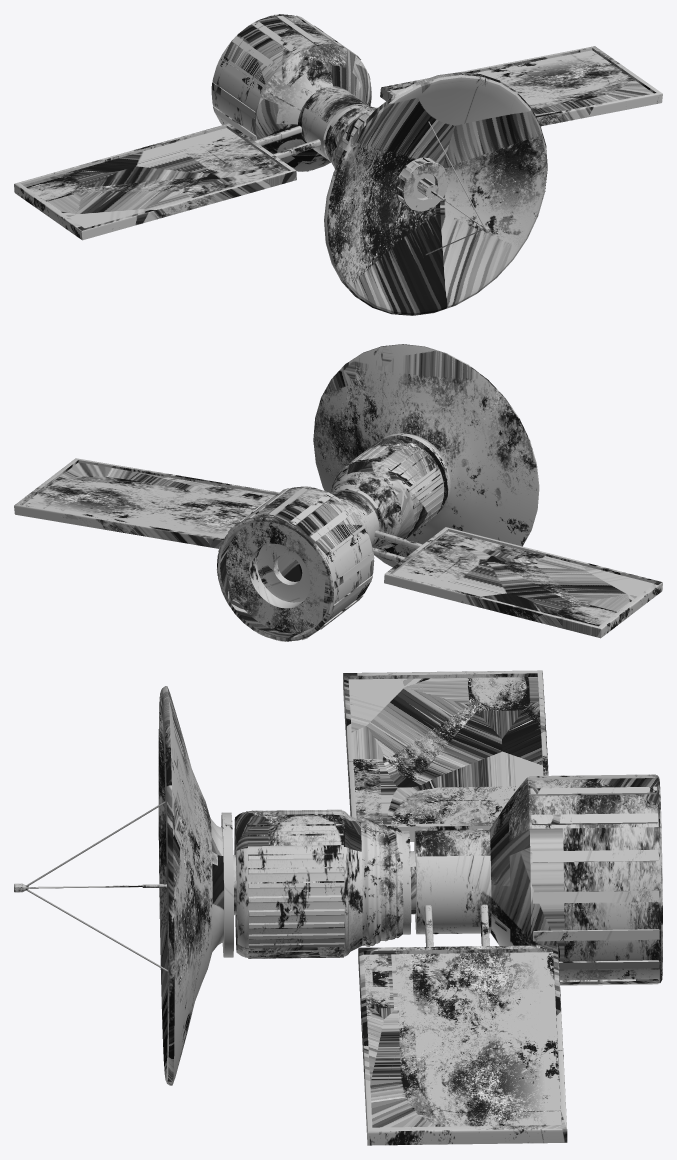
Rendered from satelitbun.obj.
3 views of the same model, one above another, from view 1: azimuth 30°, elevation 25°; view 2: azimuth 150°, elevation 25°; view 3: azimuth 270°, elevation 25° (orthographic). The views are drawn at different scales.
Visible parts, largest first — view 1: Satélite_Cylinder.004, Placas_Cylinder.001, Couro_Cylinder; view 2: Satélite_Cylinder.004, Placas_Cylinder.001, Couro_Cylinder; view 3: Satélite_Cylinder.004, Placas_Cylinder.001, Couro_Cylinder, Pinos_Cylinder.002.
Part boxes in pixels (left/top/right/bottom): Satélite_Cylinder.004: left=211, top=14, right=547, bottom=315; Placas_Cylinder.001: left=14, top=46, right=662, bottom=240; Couro_Cylinder: left=327, top=106, right=377, bottom=168; Satélite_Cylinder.004: left=216, top=344, right=539, bottom=641; Placas_Cylinder.001: left=14, top=458, right=662, bottom=638; Couro_Cylinder: left=330, top=471, right=402, bottom=548; Satélite_Cylinder.004: left=29, top=686, right=662, bottom=1085; Placas_Cylinder.001: left=343, top=670, right=567, bottom=1145; Couro_Cylinder: left=360, top=819, right=403, bottom=946; Pinos_Cylinder.002: left=26, top=801, right=167, bottom=971.
Bounding box in the file's own units: 48.59 × 18.57 × 30.09.
5 materials, 4 textured.
